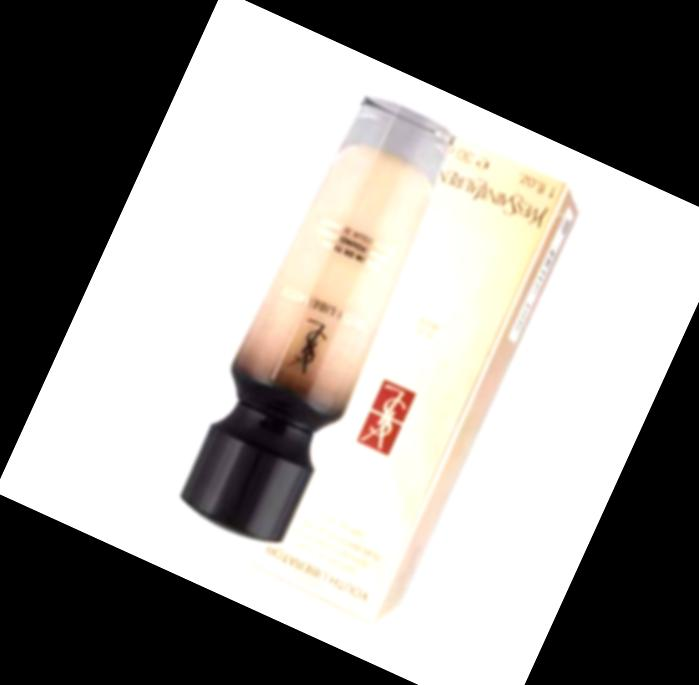cosmetic: (169, 85, 470, 547)
